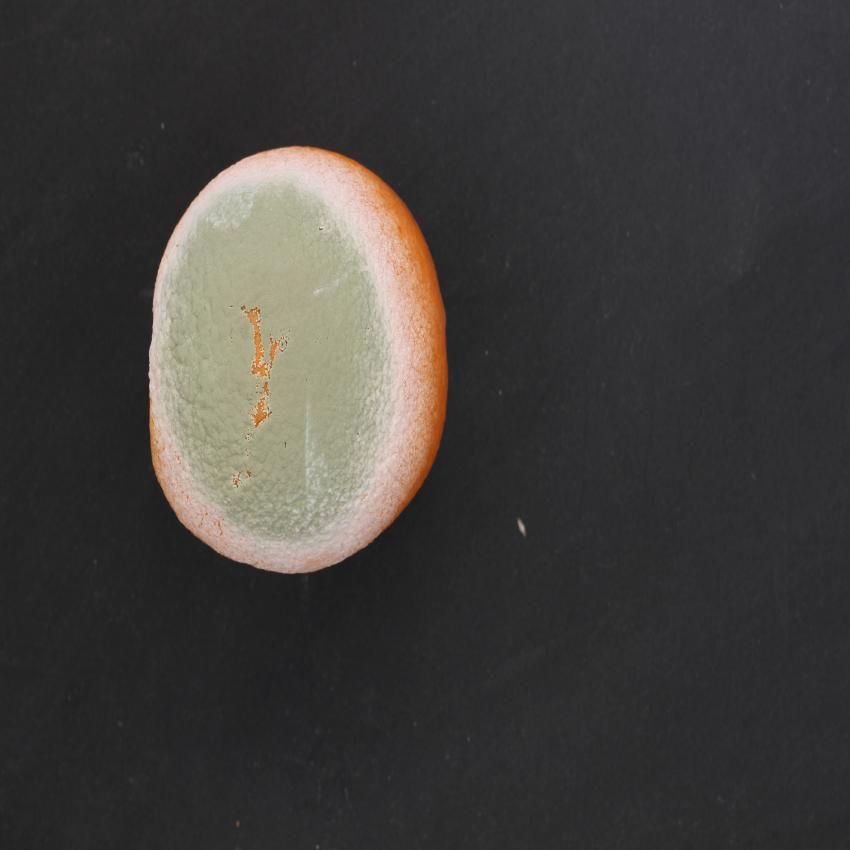Mal estado: (134, 128, 466, 586)
